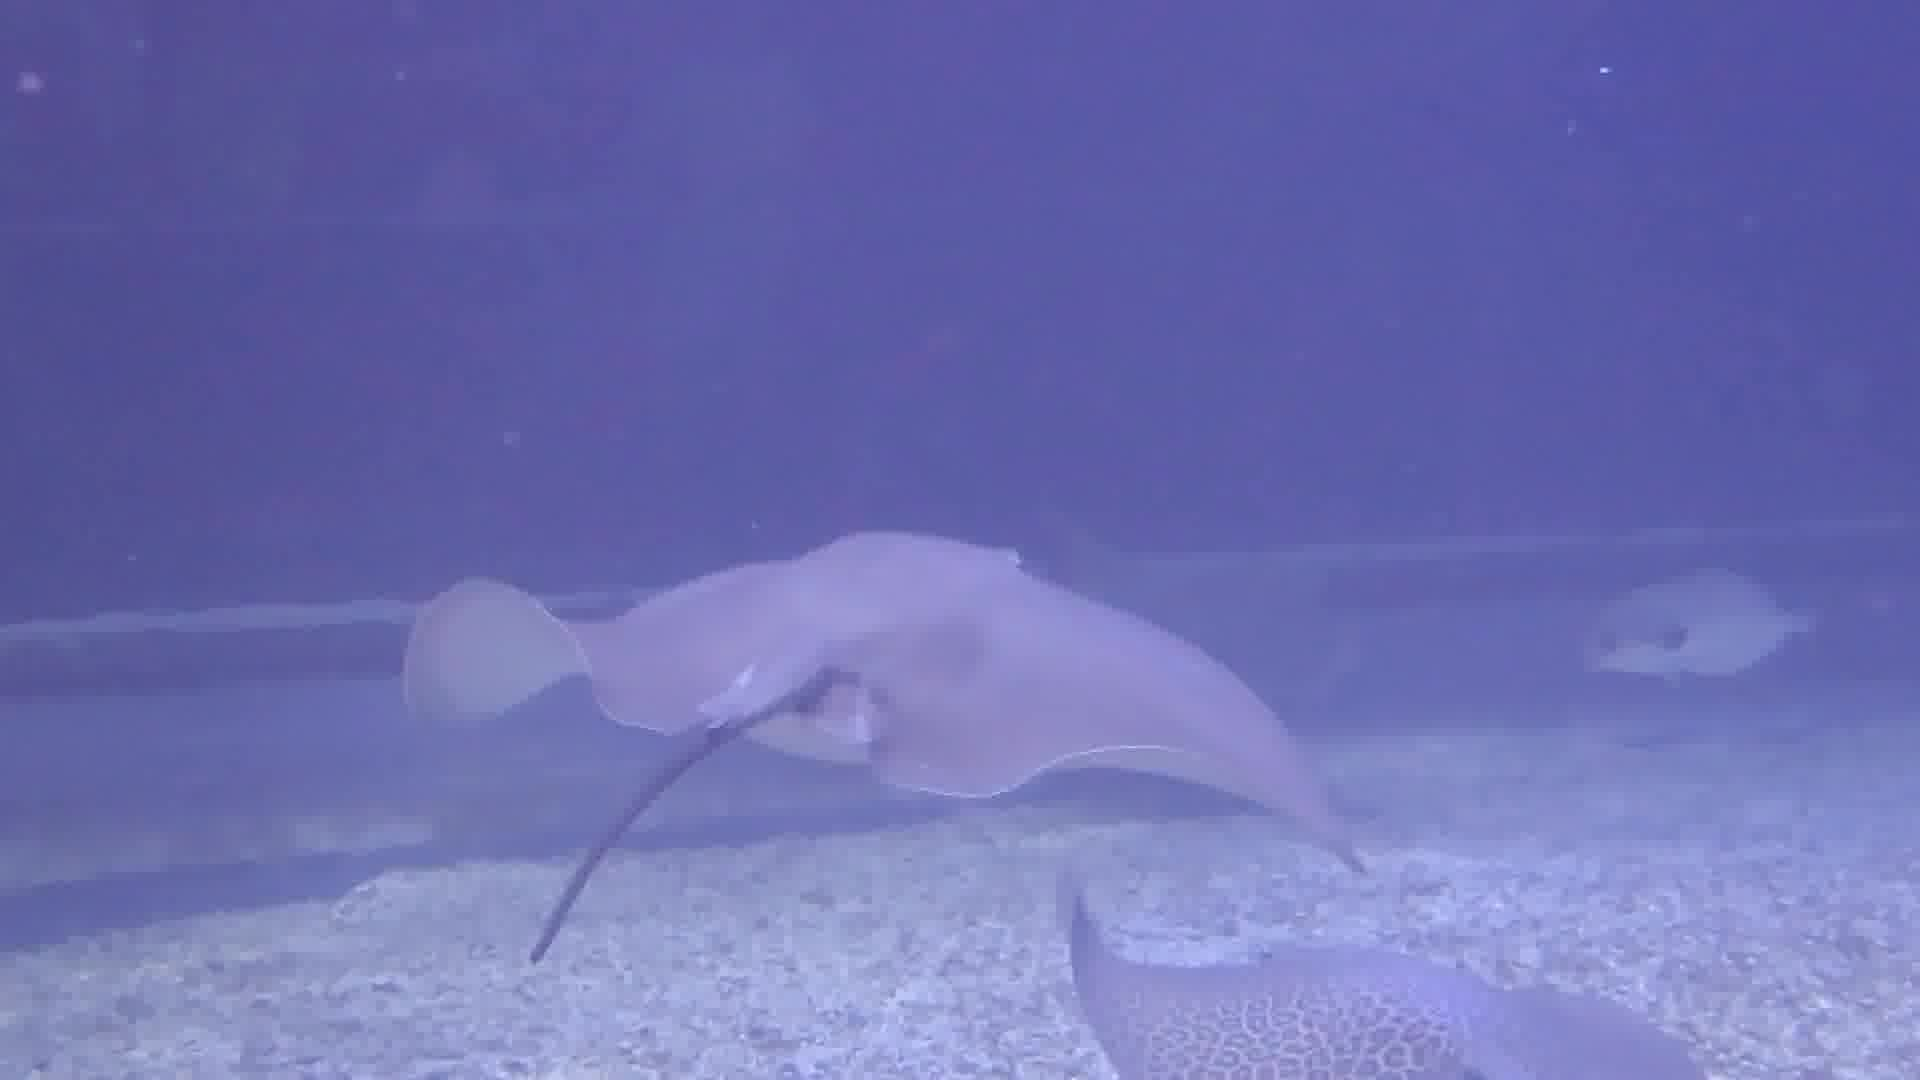Dasyatis akajei: (394, 495, 1404, 1025)
